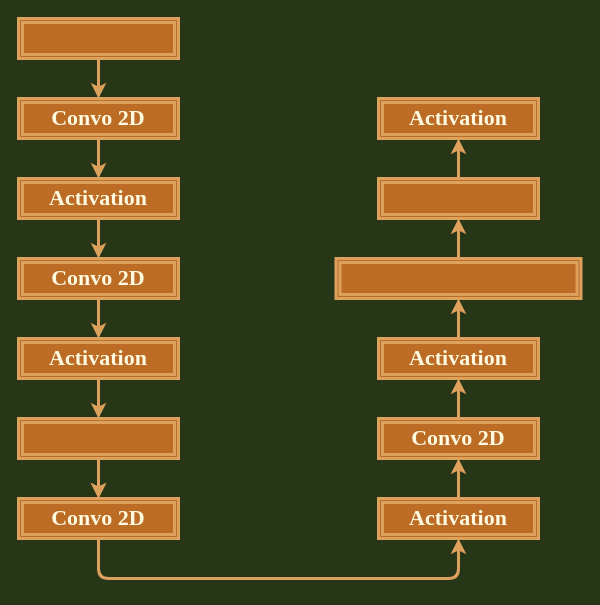
Image size: 600x605. Some labels were removed from this diagram. The box of each missing label's shape, as (x1, y1, x2, y2) in pixels:
Dense: (376, 176, 540, 220)
Input Layer: (16, 16, 180, 60)
Maxpooling2D: (16, 416, 180, 460)
Spatial Pyramid Pooling: (334, 256, 582, 300)
